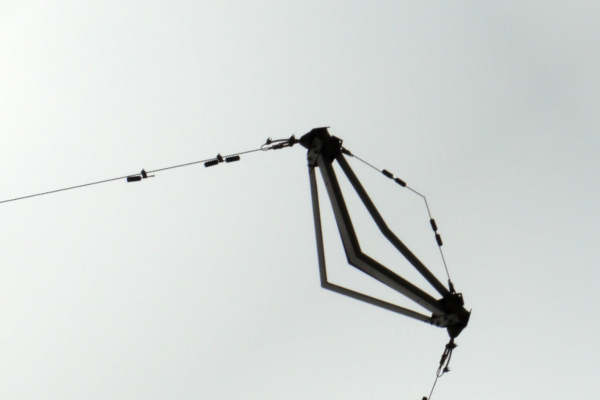damper: (202, 152, 242, 170), (378, 168, 409, 187), (428, 216, 443, 248)
damper_defect: (125, 167, 156, 183)
